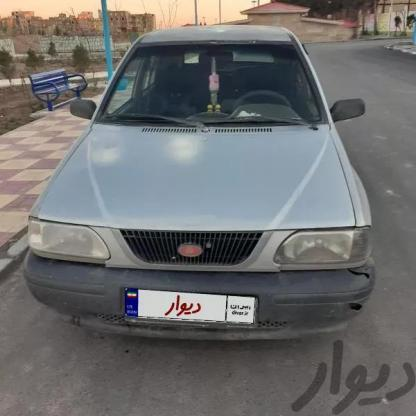Car: (26, 26, 380, 342)
